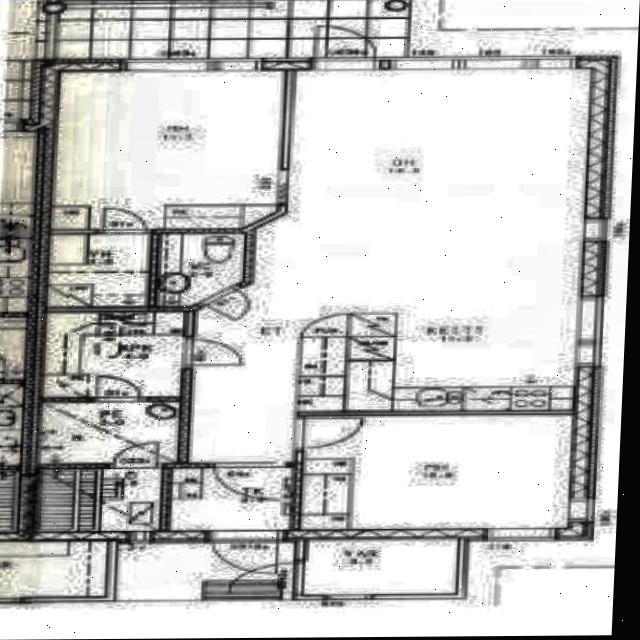room: (53, 70, 283, 230), (300, 414, 573, 529), (43, 312, 184, 397), (38, 402, 179, 463), (304, 539, 458, 594), (34, 469, 162, 531), (47, 233, 151, 307), (171, 468, 294, 530), (156, 233, 245, 306)
